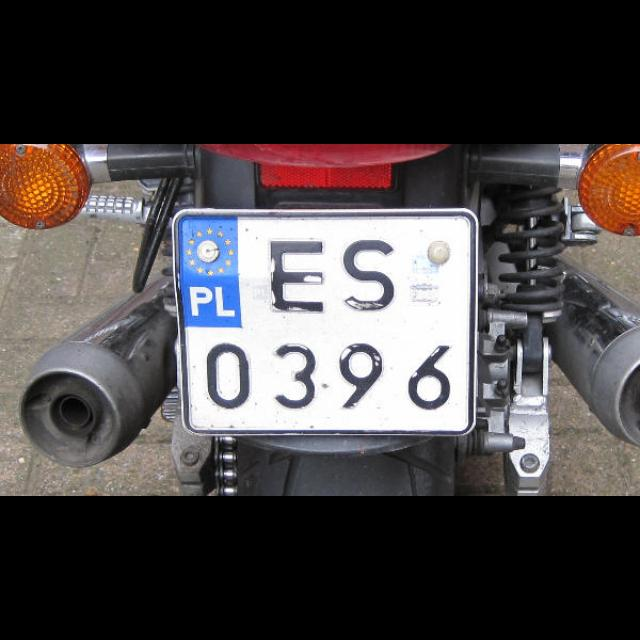pl_license_plate: (180, 216, 468, 428)
